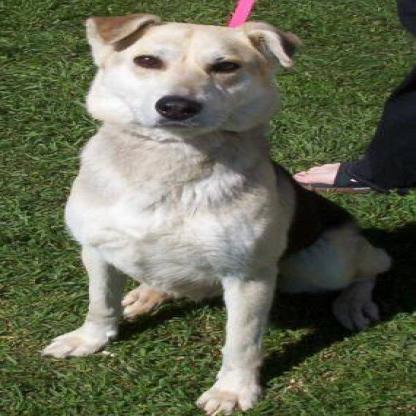dog: (66, 15, 344, 393)
